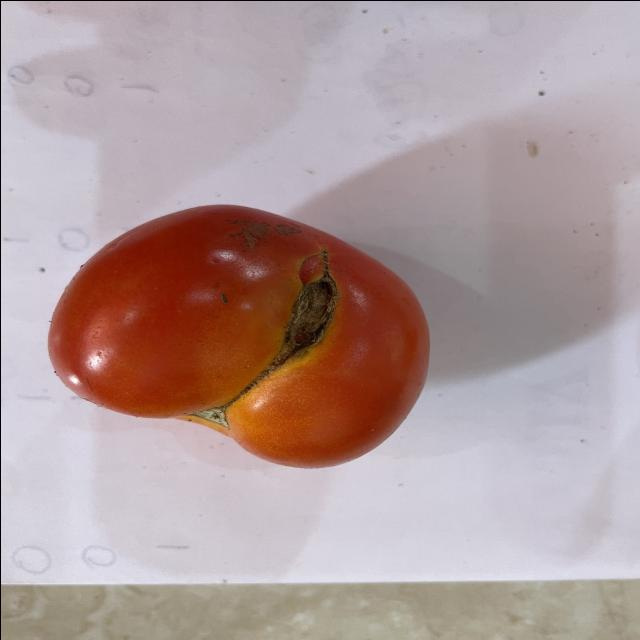tomato_cracking: (268, 249, 346, 374)
